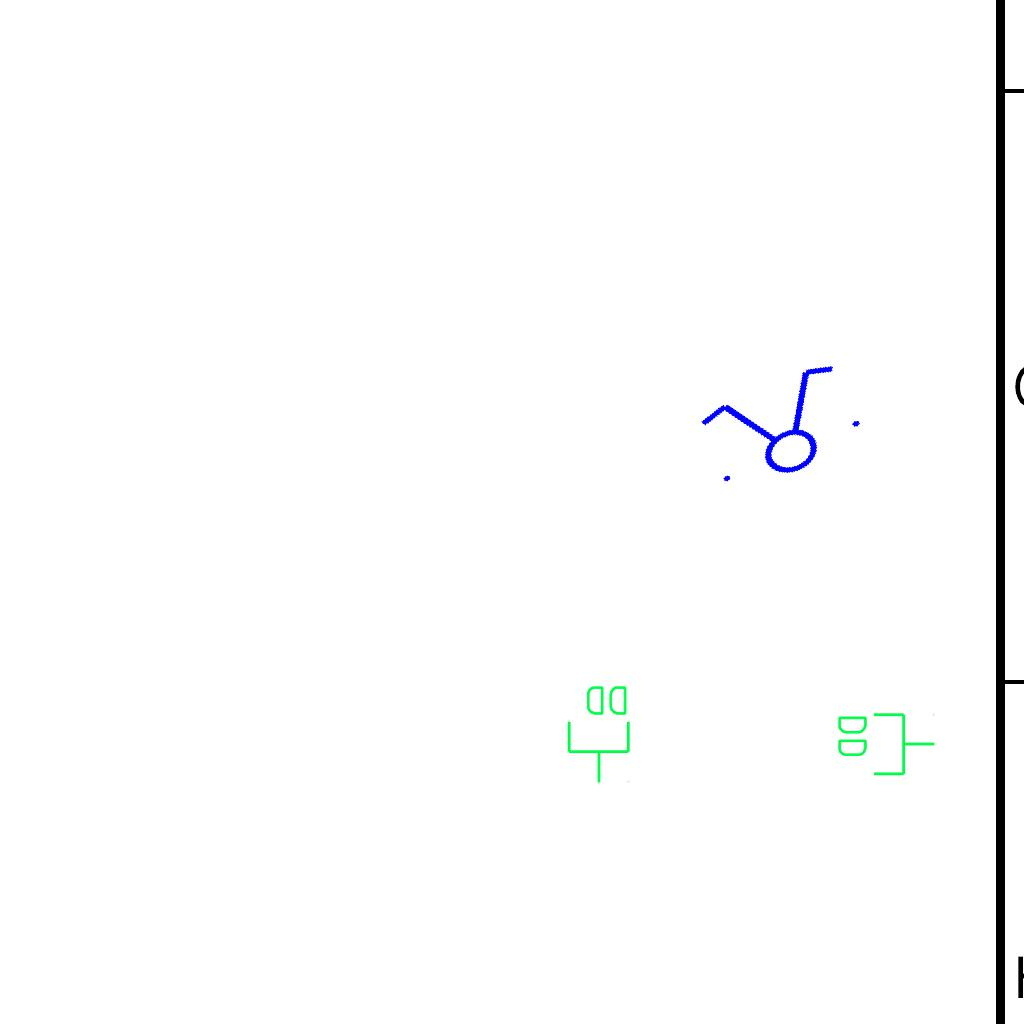Datenanschluss_zweifach: (565, 682, 634, 785), (834, 709, 937, 778)
Serienschalter: (683, 350, 877, 506)
